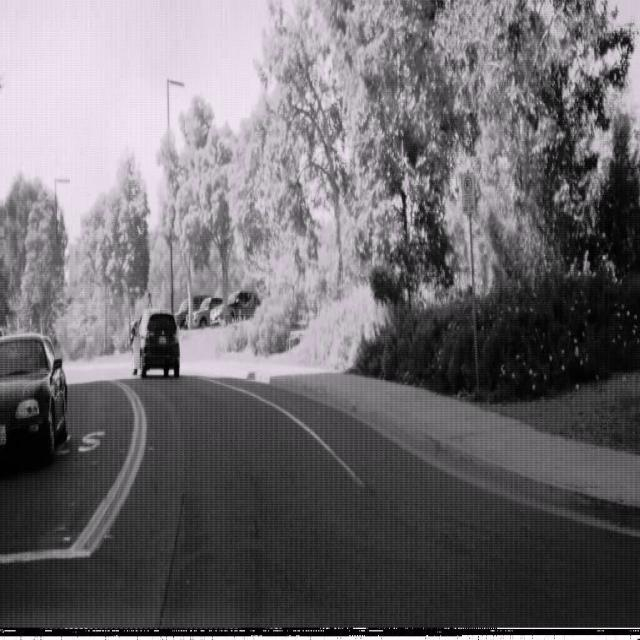pedestrianCrossing: (140, 281, 158, 315)
